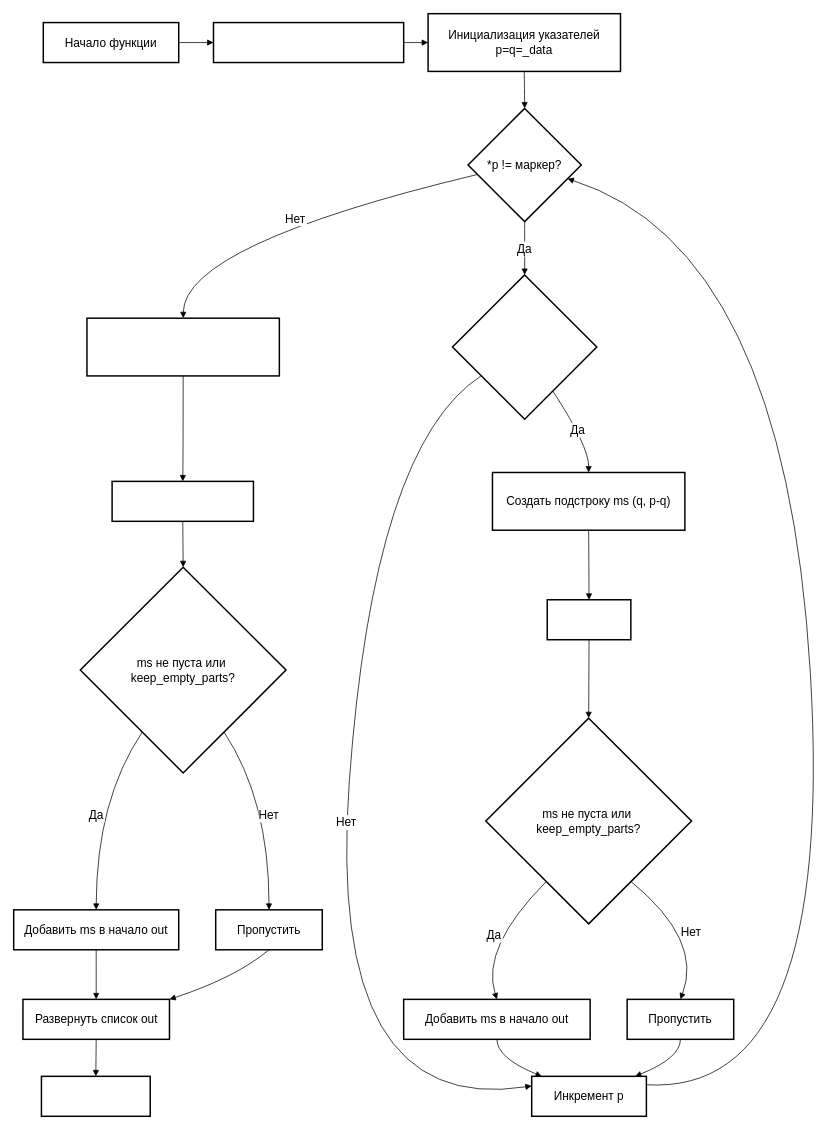
Image size: 827x1129. Some labels were removed from this diagram. Each missing label, with the centre of its shape:
*p == разделитель?: (x=524, y=347)
q = p+1: (x=588, y=619)
Вернуть out: (x=95, y=1096)
Добавить последнюю часть строки: (x=183, y=346)
Создать ms (q, p-q): (x=182, y=501)
Создать пустой список out: (x=308, y=42)
